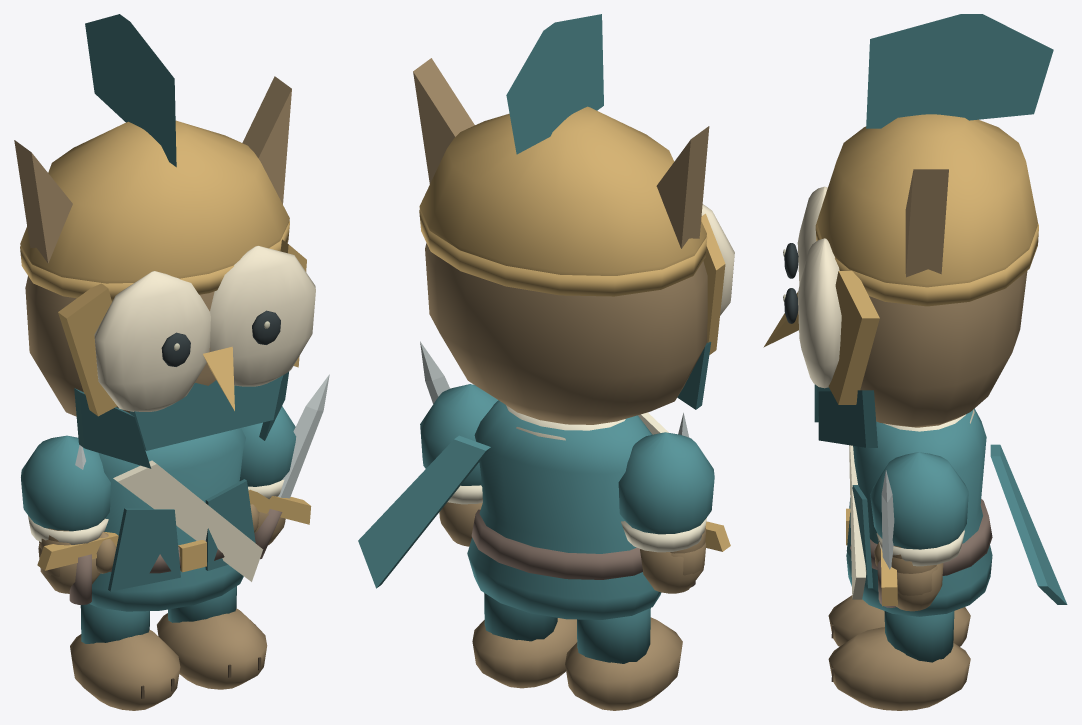
The model's file is assassin.glb.
The picture shows the model from 3 angles, left to right: view 1: azimuth 30°, elevation 25°; view 2: azimuth 150°, elevation 25°; view 3: azimuth 270°, elevation 25°; orthographic projection. The views are drawn at different scales.
Parts seen in each view (by area): view 1: Regional helmet, Owl face disk, Short folded tunic, Owl face disk.001, Greek crest, Puff sleeve, Soft animal paw, Soft animal paw.001, Soft face mask, Cream shoulder sash, Animal cheek head, Coat fold (+21 smaller); view 2: Regional helmet, Animal cheek head, Short folded tunic, Greek crest, Puff sleeve, Long scarf tail, Helmet brow band, Soft animal paw, Soft animal paw.001, Broad leather belt, Puff sleeve.001, Owl feather tuft.001 (+12 smaller); view 3: Regional helmet, Animal cheek head, Greek crest, Short folded tunic, Soft animal paw.001, Puff sleeve.001, Owl face disk.001, Corinthian cheek.001, Owl feather tuft.001, Helmet brow band, Long scarf tail, Hood cheek cowl R (+12 smaller).
Boxes of the visible parts, x1,y1,x2,y2 form: Regional helmet: [20, 120, 289, 283]; Owl face disk: [94, 271, 210, 411]; Short folded tunic: [89, 428, 245, 611]; Owl face disk.001: [210, 245, 315, 386]; Greek crest: [85, 14, 176, 167]; Puff sleeve: [21, 435, 110, 531]; Soft animal paw: [70, 630, 180, 710]; Soft animal paw.001: [157, 608, 267, 689]; Soft face mask: [129, 376, 282, 450]; Cream shoulder sash: [113, 460, 263, 581]; Animal cheek head: [25, 276, 215, 416]; Coat fold: [108, 508, 180, 591]; Regional helmet: [419, 106, 706, 275]; Animal cheek head: [425, 243, 707, 424]; Short folded tunic: [467, 400, 661, 619]; Greek crest: [506, 14, 603, 154]; Puff sleeve: [618, 432, 714, 534]; Long scarf tail: [358, 435, 490, 588]; Helmet brow band: [419, 209, 707, 296]; Soft animal paw: [565, 617, 682, 710]; Soft animal paw.001: [472, 618, 577, 688]; Broad leather belt: [471, 509, 642, 579]; Puff sleeve.001: [420, 384, 498, 485]; Owl feather tuft.001: [413, 58, 474, 183]; Regional helmet: [816, 114, 1037, 287]; Animal cheek head: [860, 271, 1027, 427]; Greek crest: [866, 14, 1053, 128]; Short folded tunic: [846, 408, 992, 616]; Soft animal paw.001: [828, 627, 970, 710]; Puff sleeve.001: [870, 452, 968, 549]; Owl face disk.001: [797, 238, 841, 388]; Corinthian cheek.001: [828, 271, 879, 404]; Owl feather tuft.001: [905, 169, 948, 277]; Helmet brow band: [815, 223, 1038, 306]; Long scarf tail: [990, 444, 1067, 604]; Hood cheek cowl R: [818, 390, 877, 447].
Size of the model in its own units: 0.8627 by 1.86 by 0.77.
